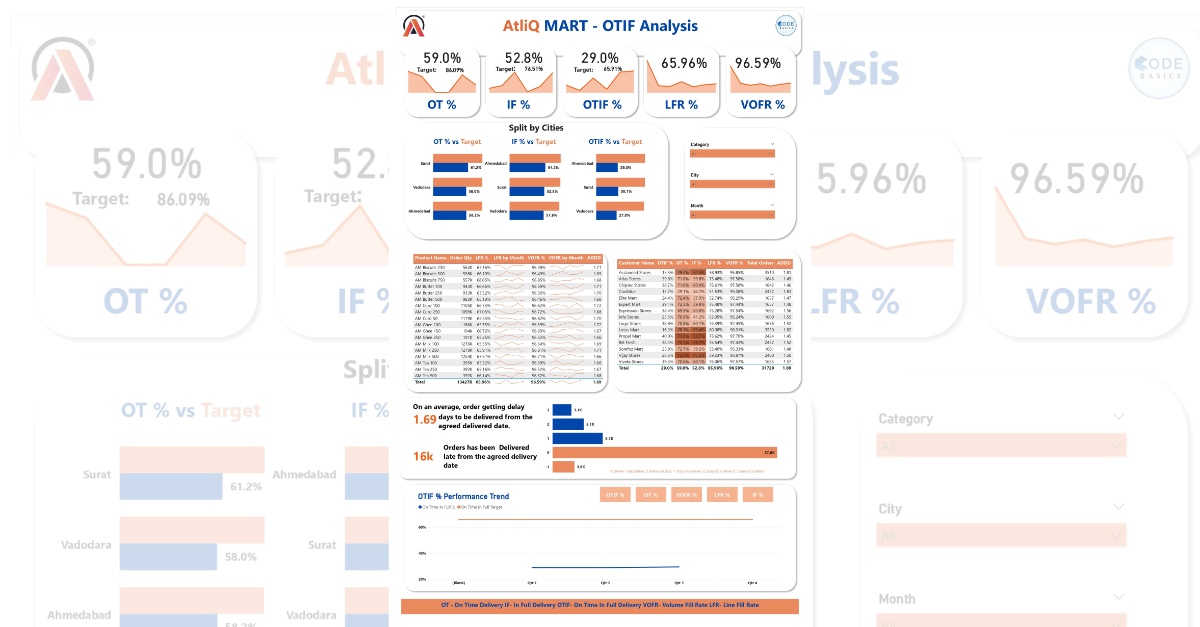

Layout of this report page (visuals, bound fields, positions):
{"tool":"powerbi","page":{"name":"Page 6","canvas":[1280,1920],"ordinal":0},"visuals":[{"type":"shape","box":[0,0,1280,160],"z":0},{"type":"image","box":[1184,16,80,80],"z":1000},{"type":"image","box":[16,16,80,80],"z":2000},{"type":"textbox","box":[304,16,688,80],"z":3000},{"type":"shape","box":[16,352,848,384],"z":4000},{"type":"shape","box":[16,752,656,464],"z":5000},{"type":"shape","box":[16,112,256,240],"z":6000,"group":"g1"},{"type":"shape","box":[672,752,608,464],"z":6000},{"type":"group","id":"g1","title":"Group 1","box":[16,112,1248,240],"z":7000},{"type":"shape","box":[272,112,240,240],"z":7000,"group":"g1"},{"type":"shape","box":[512,112,256,240],"z":8000,"group":"g1"},{"type":"shape","box":[0,1216,1264,272],"z":8000},{"type":"shape","box":[768,112,256,240],"z":9000,"group":"g1"},{"type":"shape","box":[16,1488,1248,352],"z":9000},{"type":"shape","box":[1024,112,240,240],"z":10000,"group":"g1"},{"type":"shape","box":[896,368,368,368],"z":10000},{"type":"card","fields":{"Values":["metrics.On Time Delivery %"]},"box":[48,112,192,80],"z":11000,"group":"g1"},{"type":"clusteredBarChart","fields":{"Category":["dim_customers.city"],"Y":["metrics.On Time Target","metrics.On Time Delivery %"]},"box":[32,416,288,288],"z":11000},{"type":"card","fields":{"Values":["metrics.In Full Delivery %"]},"box":[304,112,192,80],"z":12000,"group":"g1"},{"type":"clusteredBarChart","fields":{"Category":["dim_customers.city"],"Y":["metrics.On Time In Full Target","metrics.On Time In Full %"]},"box":[544,416,288,288],"z":12000},{"type":"card","fields":{"Values":["metrics.On Time In Full %"]},"box":[560,112,160,80],"z":13000,"group":"g1"},{"type":"clusteredBarChart","fields":{"Category":["dim_customers.city"],"Y":["metrics.In Full Target","metrics.In Full Delivery %"]},"box":[272,416,288,288],"z":13000},{"type":"card","fields":{"Values":["metrics.Line Fill Rate"]},"box":[816,128,176,80],"z":14000,"group":"g1"},{"type":"textbox","box":[288,352,304,48],"z":14000},{"type":"card","fields":{"Values":["metrics.Volume Fill Rate"]},"box":[1056,128,160,80],"z":15000,"group":"g1"},{"type":"textbox","box":[96,400,192,48],"z":15000},{"type":"card","title":"Target","fields":{"Values":["metrics.On Time Target"]},"box":[128,176,112,40],"z":16000,"group":"g1"},{"type":"textbox","box":[336,400,192,48],"z":16000},{"type":"card","fields":{"Values":["metrics.In Full Target"]},"box":[384,168,96,48],"z":17000,"group":"g1"},{"type":"textbox","box":[592,400,192,48],"z":17000},{"type":"card","fields":{"Values":["metrics.On Time In Full Target"]},"box":[632,168,96,48],"z":18000,"group":"g1"},{"type":"tableEx","fields":{"Values":["dim_products.product_name","Sum(fact_order_lines.order_qty)","metrics.Line Fill Rate","SparklineData(metrics.Line Fill Rate_[dim_date.date.Variation.Date Hierarchy.Month])","metrics.Volume Fill Rate","SparklineData(metrics.Volume Fill Rate_[dim_date.date.Variation.Date Hierarchy.Month])","metrics.ADDD"]},"box":[48,768,608,448],"z":18000},{"type":"textbox","box":[40,176,112,40],"z":19000,"group":"g1"},{"type":"tableEx","fields":{"Values":["dim_customers.customer_name","metrics.On Time In Full %","metrics.On Time Delivery %","metrics.In Full Delivery %","metrics.Line Fill Rate","metrics.Volume Fill Rate","metrics.Total Orders","metrics.ADDD"]},"box":[688,784,576,368],"z":19000},{"type":"textbox","box":[536,176,104,40],"z":20000,"group":"g1"},{"type":"barChart","fields":{"Category":["fact_order_lines.day delay"],"Y":["CountNonNull(fact_order_lines.order_id)"]},"box":[464,1232,768,240],"z":20000},{"type":"textbox","box":[280,168,128,56],"z":21000,"group":"g1"},{"type":"areaChart","fields":{"Y":["metrics.On Time Delivery %"],"Category":["dim_date.date.Variation.Date Hierarchy.Month"]},"box":[16,160,256,112],"z":22000,"group":"g1"},{"type":"actionButton","title":"OTIF %","box":[640,1504,96,48],"z":22000},{"type":"areaChart","fields":{"Category":["dim_date.date.Variation.Date Hierarchy.Month"],"Y":["metrics.In Full Delivery %"]},"box":[272,176,240,96],"z":23000,"group":"g1"},{"type":"actionButton","box":[752,1504,96,48],"z":23000},{"type":"areaChart","fields":{"Category":["dim_date.date.Variation.Date Hierarchy.Month"],"Y":["metrics.On Time In Full %"]},"box":[512,184,256,88],"z":24000,"group":"g1"},{"type":"actionButton","box":[864,1504,96,48],"z":24000},{"type":"areaChart","fields":{"Category":["dim_date.date.Variation.Date Hierarchy.Month"],"Y":["metrics.Volume Fill Rate"]},"box":[1032,144,224,128],"z":25000,"group":"g1"},{"type":"actionButton","box":[976,1504,96,48],"z":25000},{"type":"areaChart","fields":{"Category":["dim_date.date.Variation.Date Hierarchy.Month"],"Y":["metrics.Line Fill Rate"]},"box":[768,152,256,120],"z":26000,"group":"g1"},{"type":"actionButton","box":[1088,1504,96,48],"z":26000},{"type":"textbox","box":[80,272,128,64],"z":27000,"group":"g1"},{"type":"textbox","box":[320,272,128,64],"z":28000,"group":"g1"},{"type":"lineChart","title":"OTIF % Performance Trend","fields":{"Category":["dim_date.date.Variation.Date Hierarchy.Quarter"],"Y":["metrics.On Time In Full %","metrics.On Time In Full Target"]},"box":[64,1520,1152,304],"z":28000},{"type":"textbox","box":[576,272,144,64],"z":29000,"group":"g1"},{"type":"textbox","box":[832,272,128,64],"z":30000,"group":"g1"},{"type":"textbox","box":[1072,272,160,64],"z":31000,"group":"g1"},{"type":"textbox","box":[48,1232,432,96],"z":31000},{"type":"textbox","box":[48,1376,96,64],"z":32000},{"type":"textbox","box":[144,1360,304,112],"z":33000},{"type":"textbox","box":[128,1264,320,96],"z":34000},{"type":"textbox","box":[16,1856,1248,48],"z":35000},{"type":"textbox","box":[608,1440,608,32],"z":36000},{"type":"slicer","fields":{"Values":["dim_products.category"]},"box":[912,416,288,64],"z":37000},{"type":"slicer","fields":{"Values":["dim_customers.city"]},"box":[912,512,288,64],"z":38000},{"type":"slicer","fields":{"Values":["dim_date.date.Variation.Date Hierarchy.Month"]},"box":[912,608,288,64],"z":39000}]}

Visuals, with their boxes on the page's 1280x1920 design canvas (x1, y1, x2, y2). These are canvas units, not pixel positions in the 1200x627 screenshot, which may show the page scaled, cropped or inside an application window:
shape: pyautogui.locateOnScreen(0, 0, 1280, 160)
image: pyautogui.locateOnScreen(1184, 16, 1264, 96)
image: pyautogui.locateOnScreen(16, 16, 96, 96)
textbox: pyautogui.locateOnScreen(304, 16, 992, 96)
shape: pyautogui.locateOnScreen(16, 352, 864, 736)
shape: pyautogui.locateOnScreen(16, 752, 672, 1216)
shape: pyautogui.locateOnScreen(16, 112, 272, 352)
shape: pyautogui.locateOnScreen(672, 752, 1280, 1216)
"Group 1" group: pyautogui.locateOnScreen(16, 112, 1264, 352)
shape: pyautogui.locateOnScreen(272, 112, 512, 352)
shape: pyautogui.locateOnScreen(512, 112, 768, 352)
shape: pyautogui.locateOnScreen(0, 1216, 1264, 1488)
shape: pyautogui.locateOnScreen(768, 112, 1024, 352)
shape: pyautogui.locateOnScreen(16, 1488, 1264, 1840)
shape: pyautogui.locateOnScreen(1024, 112, 1264, 352)
shape: pyautogui.locateOnScreen(896, 368, 1264, 736)
card - metrics.On Time Delivery %: pyautogui.locateOnScreen(48, 112, 240, 192)
clusteredBarChart - dim_customers.city x metrics.On Time Target: pyautogui.locateOnScreen(32, 416, 320, 704)
card - metrics.In Full Delivery %: pyautogui.locateOnScreen(304, 112, 496, 192)
clusteredBarChart - dim_customers.city x metrics.On Time In Full Target: pyautogui.locateOnScreen(544, 416, 832, 704)
card - metrics.On Time In Full %: pyautogui.locateOnScreen(560, 112, 720, 192)
clusteredBarChart - dim_customers.city x metrics.In Full Target: pyautogui.locateOnScreen(272, 416, 560, 704)
card - metrics.Line Fill Rate: pyautogui.locateOnScreen(816, 128, 992, 208)
textbox: pyautogui.locateOnScreen(288, 352, 592, 400)
card - metrics.Volume Fill Rate: pyautogui.locateOnScreen(1056, 128, 1216, 208)
textbox: pyautogui.locateOnScreen(96, 400, 288, 448)
"Target" card: pyautogui.locateOnScreen(128, 176, 240, 216)
textbox: pyautogui.locateOnScreen(336, 400, 528, 448)
card - metrics.In Full Target: pyautogui.locateOnScreen(384, 168, 480, 216)
textbox: pyautogui.locateOnScreen(592, 400, 784, 448)
card - metrics.On Time In Full Target: pyautogui.locateOnScreen(632, 168, 728, 216)
tableEx - dim_products.product_name x Sum(fact_order_lines.order_qty): pyautogui.locateOnScreen(48, 768, 656, 1216)
textbox: pyautogui.locateOnScreen(40, 176, 152, 216)
tableEx - dim_customers.customer_name x metrics.On Time In Full %: pyautogui.locateOnScreen(688, 784, 1264, 1152)
textbox: pyautogui.locateOnScreen(536, 176, 640, 216)
barChart - fact_order_lines.day delay x CountNonNull(fact_order_lines.order_id): pyautogui.locateOnScreen(464, 1232, 1232, 1472)
textbox: pyautogui.locateOnScreen(280, 168, 408, 224)
areaChart - metrics.On Time Delivery % x dim_date.date.Variation.Date Hierarchy.Month: pyautogui.locateOnScreen(16, 160, 272, 272)
"OTIF %" actionButton: pyautogui.locateOnScreen(640, 1504, 736, 1552)
areaChart - dim_date.date.Variation.Date Hierarchy.Month x metrics.In Full Delivery %: pyautogui.locateOnScreen(272, 176, 512, 272)
actionButton: pyautogui.locateOnScreen(752, 1504, 848, 1552)
areaChart - dim_date.date.Variation.Date Hierarchy.Month x metrics.On Time In Full %: pyautogui.locateOnScreen(512, 184, 768, 272)
actionButton: pyautogui.locateOnScreen(864, 1504, 960, 1552)
areaChart - dim_date.date.Variation.Date Hierarchy.Month x metrics.Volume Fill Rate: pyautogui.locateOnScreen(1032, 144, 1256, 272)
actionButton: pyautogui.locateOnScreen(976, 1504, 1072, 1552)
areaChart - dim_date.date.Variation.Date Hierarchy.Month x metrics.Line Fill Rate: pyautogui.locateOnScreen(768, 152, 1024, 272)
actionButton: pyautogui.locateOnScreen(1088, 1504, 1184, 1552)
textbox: pyautogui.locateOnScreen(80, 272, 208, 336)
textbox: pyautogui.locateOnScreen(320, 272, 448, 336)
"OTIF % Performance Trend" lineChart: pyautogui.locateOnScreen(64, 1520, 1216, 1824)
textbox: pyautogui.locateOnScreen(576, 272, 720, 336)
textbox: pyautogui.locateOnScreen(832, 272, 960, 336)
textbox: pyautogui.locateOnScreen(1072, 272, 1232, 336)
textbox: pyautogui.locateOnScreen(48, 1232, 480, 1328)
textbox: pyautogui.locateOnScreen(48, 1376, 144, 1440)
textbox: pyautogui.locateOnScreen(144, 1360, 448, 1472)
textbox: pyautogui.locateOnScreen(128, 1264, 448, 1360)
textbox: pyautogui.locateOnScreen(16, 1856, 1264, 1904)
textbox: pyautogui.locateOnScreen(608, 1440, 1216, 1472)
slicer - dim_products.category: pyautogui.locateOnScreen(912, 416, 1200, 480)
slicer - dim_customers.city: pyautogui.locateOnScreen(912, 512, 1200, 576)
slicer - dim_date.date.Variation.Date Hierarchy.Month: pyautogui.locateOnScreen(912, 608, 1200, 672)
